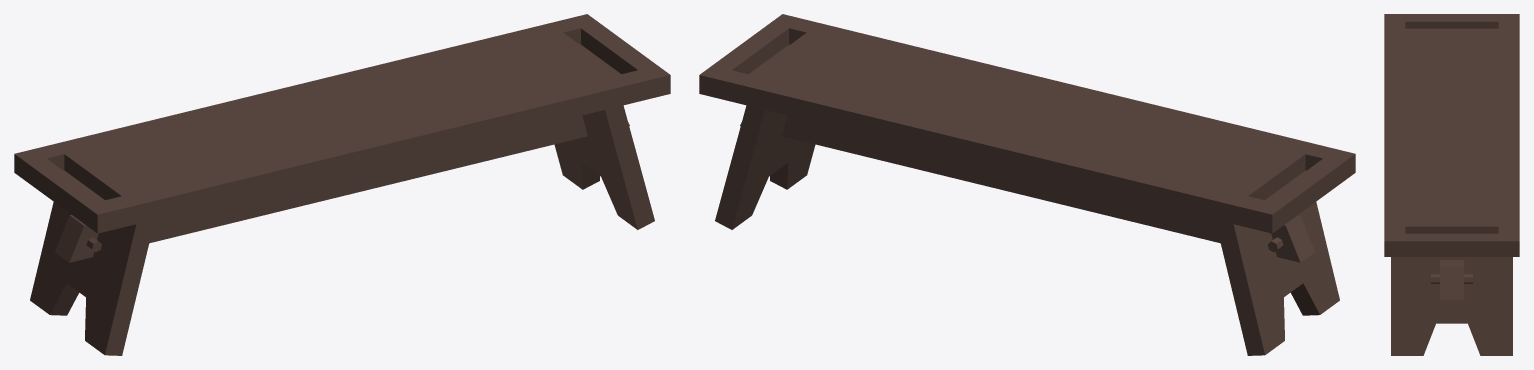
Rendered from Physician_Chair.fbx.
The picture shows the model from 3 angles, left to right: view 1: azimuth 30°, elevation 25°; view 2: azimuth 150°, elevation 25°; view 3: azimuth 270°, elevation 25°; orthographic projection. The views are drawn at different scales.
Parts seen in each view (by area): view 1: Phsycian_Chair_Geo; view 2: Phsycian_Chair_Geo; view 3: Phsycian_Chair_Geo.
Part boxes in pixels (bbox=[...]): Phsycian_Chair_Geo: bbox=[14, 14, 670, 355]; Phsycian_Chair_Geo: bbox=[699, 14, 1355, 355]; Phsycian_Chair_Geo: bbox=[1384, 14, 1519, 355].
Size of the model in its own units: 71.64 by 18.07 by 18.03.
